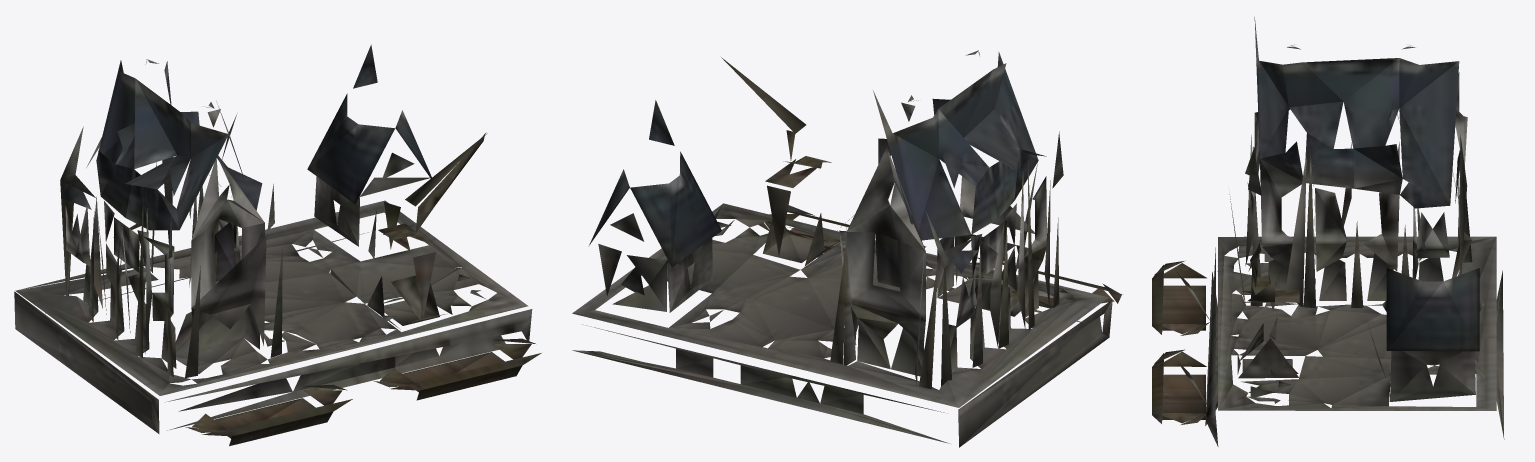
File: docks.glb
3 views of the same model, side by side, from view 1: azimuth 30°, elevation 25°; view 2: azimuth 150°, elevation 25°; view 3: azimuth 270°, elevation 25° (orthographic). The views are drawn at different scales.
Visible parts, largest first — view 1: tripo_node_89fd65b9-f3af-45f1-95a3-2fc10; view 2: tripo_node_89fd65b9-f3af-45f1-95a3-2fc10; view 3: tripo_node_89fd65b9-f3af-45f1-95a3-2fc10.
Boxes of the visible parts, x1,y1,x2,y2 form: tripo_node_89fd65b9-f3af-45f1-95a3-2fc10: [14, 44, 541, 446]; tripo_node_89fd65b9-f3af-45f1-95a3-2fc10: [572, 50, 1122, 447]; tripo_node_89fd65b9-f3af-45f1-95a3-2fc10: [1152, 17, 1504, 446].
Size of the model in its own units: 30.61 by 23.89 by 27.09.
1 material, 1 textured.
